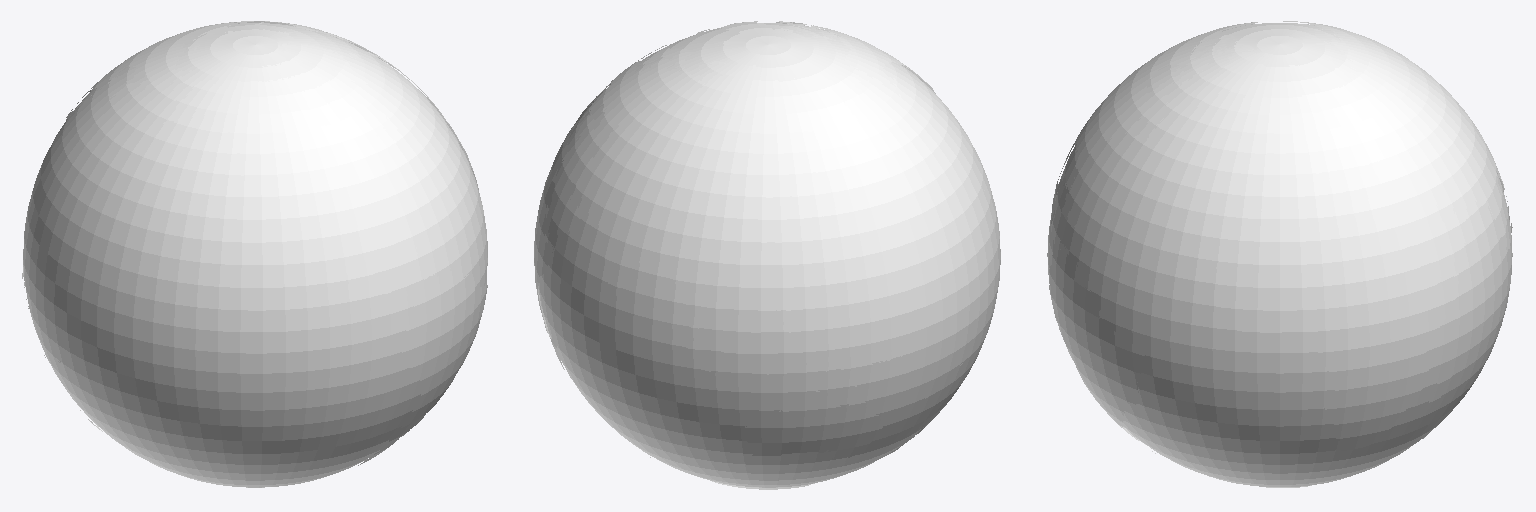
Rendered from Earth.obj.
3 views of the same model, side by side, from view 1: azimuth 30°, elevation 25°; view 2: azimuth 150°, elevation 25°; view 3: azimuth 270°, elevation 25° (orthographic).
Parts seen in each view (by area): view 1: Object002, Object001; view 2: Object002, Object001; view 3: Object002, Object001.
Boxes of the visible parts, x1=… form: Object002: x1=22, y1=21, x2=487, y2=465; Object001: x1=23, y1=186, x2=487, y2=487; Object002: x1=534, y1=21, x2=990, y2=489; Object001: x1=538, y1=191, x2=1000, y2=487; Object002: x1=1049, y1=21, x2=1512, y2=487; Object001: x1=1047, y1=192, x2=1512, y2=486.
Bounding box in the file's own units: 13262 × 13305 × 13237.